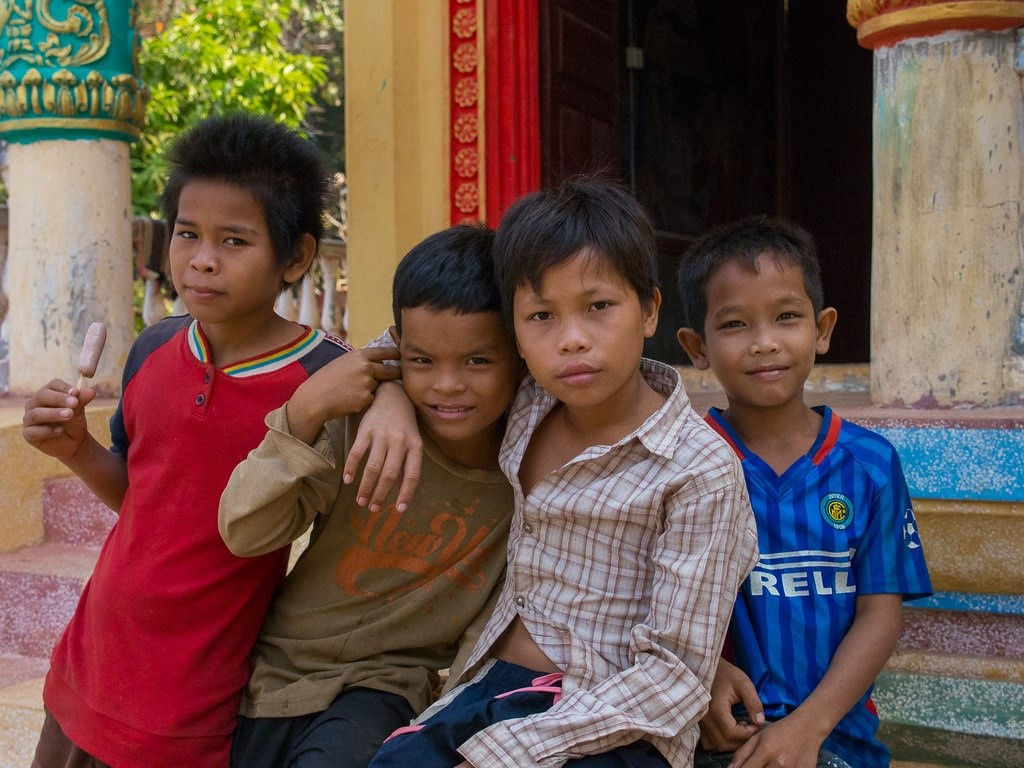face_no_mask: (495, 177, 660, 404), (672, 214, 838, 412), (164, 113, 317, 319), (391, 226, 519, 437)
